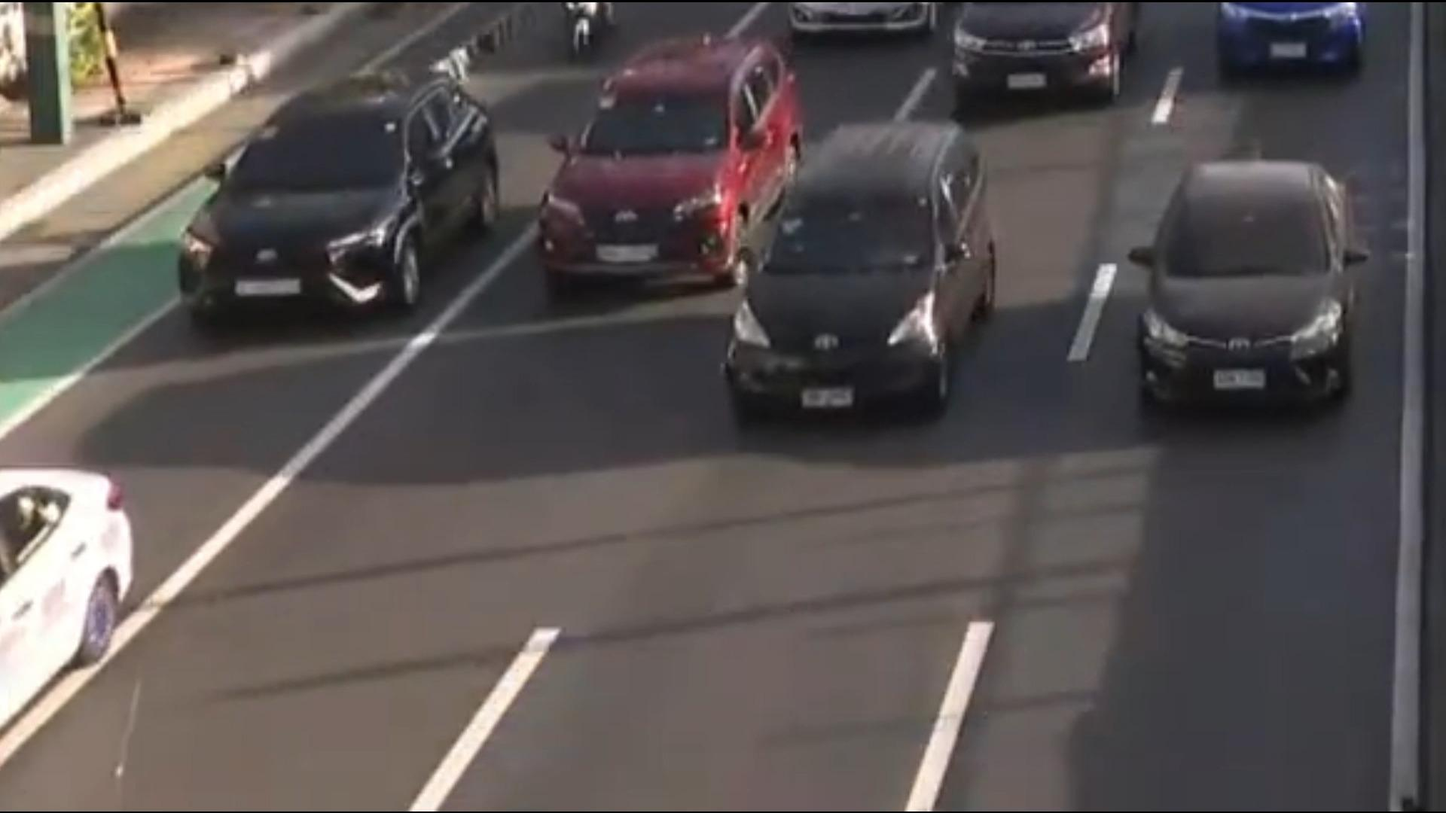SUV: (718, 107, 1006, 425), (527, 24, 811, 300), (939, 0, 1152, 114)
Sedan: (173, 65, 510, 331), (1112, 149, 1369, 431), (0, 452, 143, 768)
